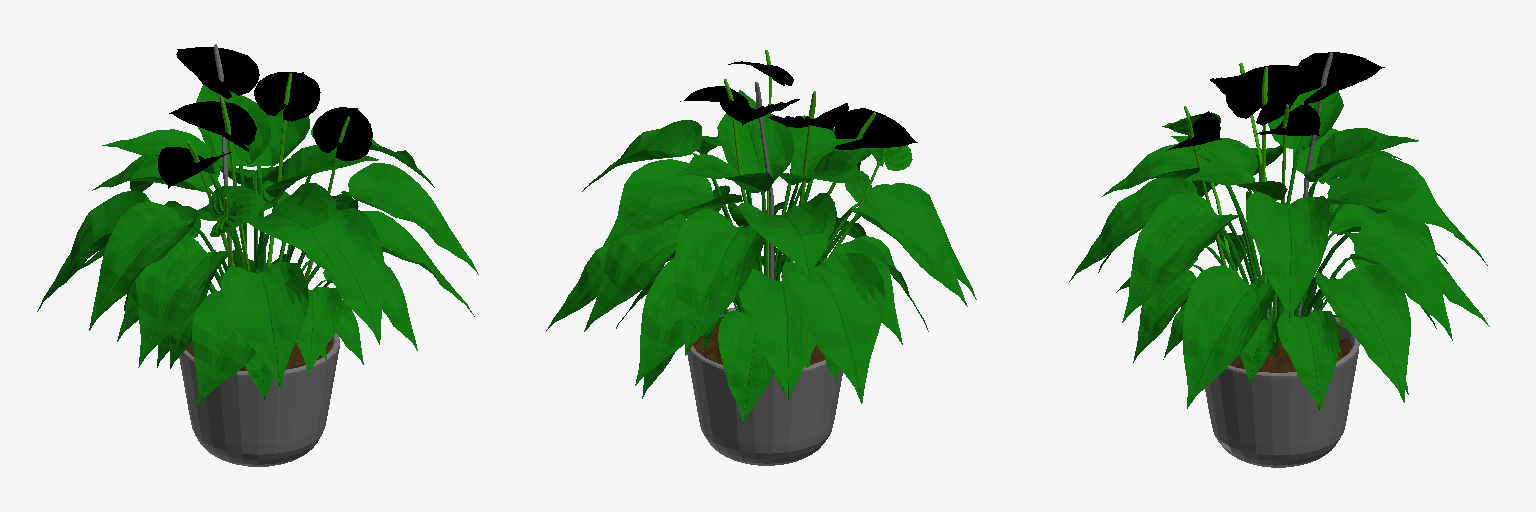
3 renders of one model, left to right at view 1: azimuth 30°, elevation 25°; view 2: azimuth 150°, elevation 25°; view 3: azimuth 270°, elevation 25°, orthographic.
Parts seen in each view (by area): view 1: Anthurium_Red_ncl1_1; view 2: Anthurium_Red_ncl1_1; view 3: Anthurium_Red_ncl1_1.
Part boxes in pixels (x1,y1,x2,y2): Anthurium_Red_ncl1_1: (37, 44, 478, 466); Anthurium_Red_ncl1_1: (546, 50, 976, 465); Anthurium_Red_ncl1_1: (1069, 52, 1489, 467).
Bounding box in the file's own units: 3.24 × 3.31 × 3.22.
6 materials, 3 textured.